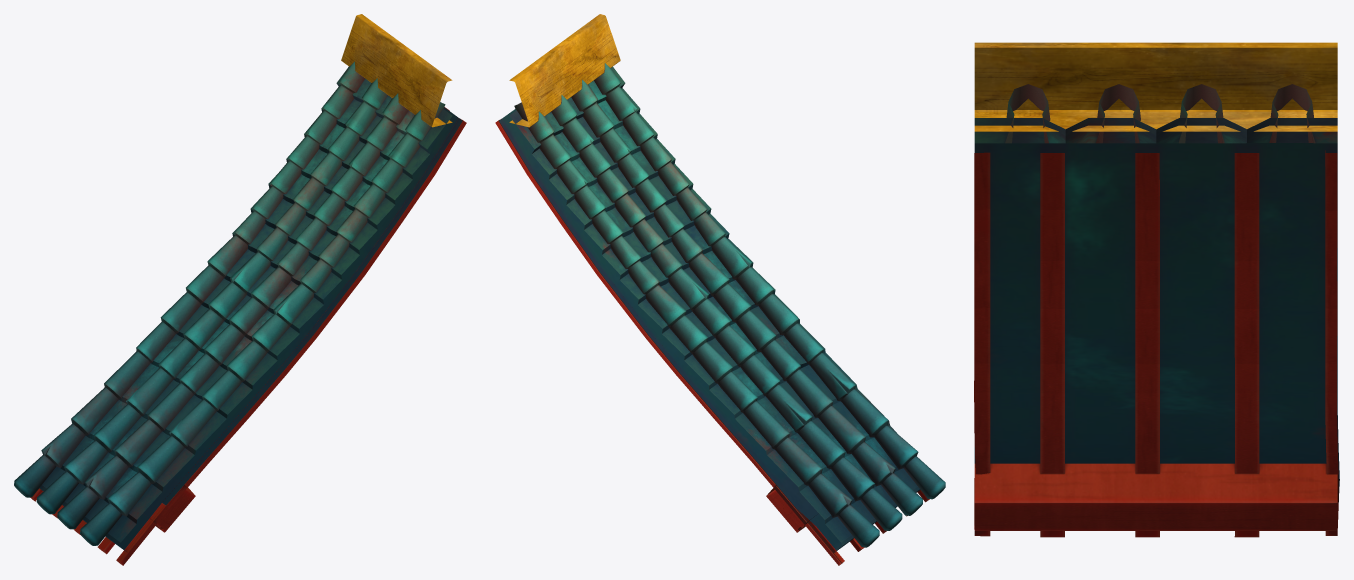
File: SM_BigRoof.glb
3 renders of one model, left to right at view 1: azimuth 30°, elevation 25°; view 2: azimuth 150°, elevation 25°; view 3: azimuth 270°, elevation 25°, orthographic. The views are drawn at different scales.
Parts seen in each view (by area): view 1: SM_BigRoof_LOD0; view 2: SM_BigRoof_LOD0; view 3: SM_BigRoof_LOD0.
Part boxes in pixels (x1,y1,x2,y2): SM_BigRoof_LOD0: [14, 14, 466, 565]; SM_BigRoof_LOD0: [495, 14, 945, 565]; SM_BigRoof_LOD0: [974, 42, 1339, 537].
Size of the model in its own units: 2.36 by 2.47 by 1.01.
1 material, 1 textured.
